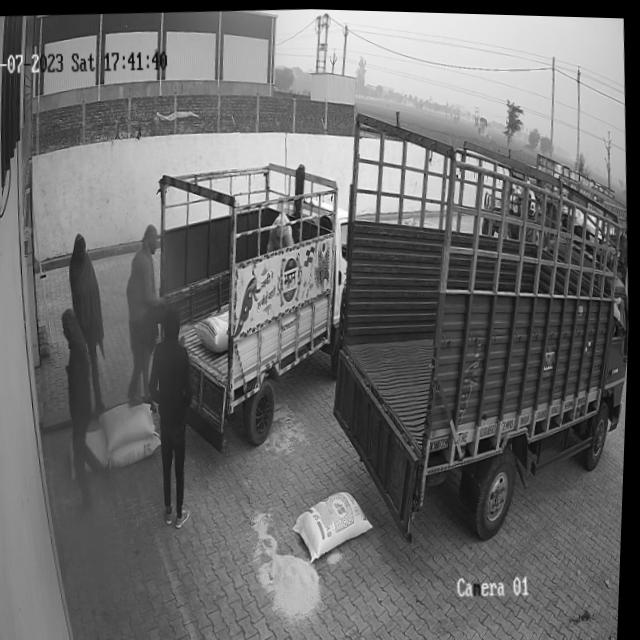sack: (293, 486, 381, 563), (101, 399, 159, 450), (111, 433, 164, 468)
